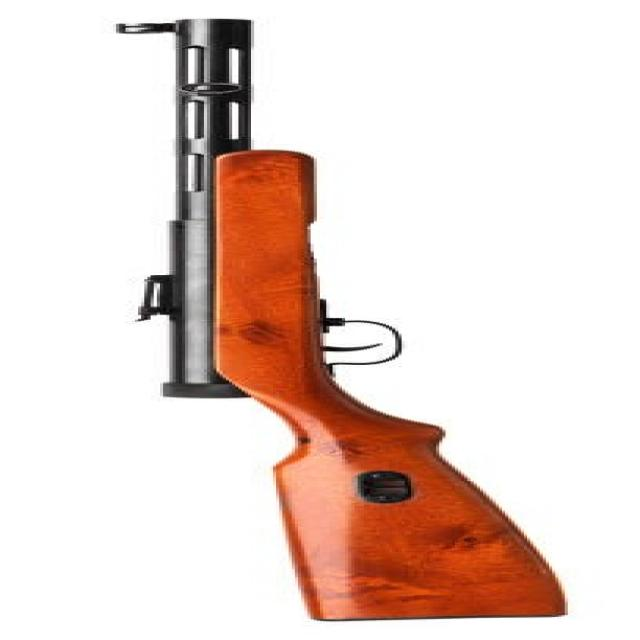rifle: (92, 10, 606, 626)
